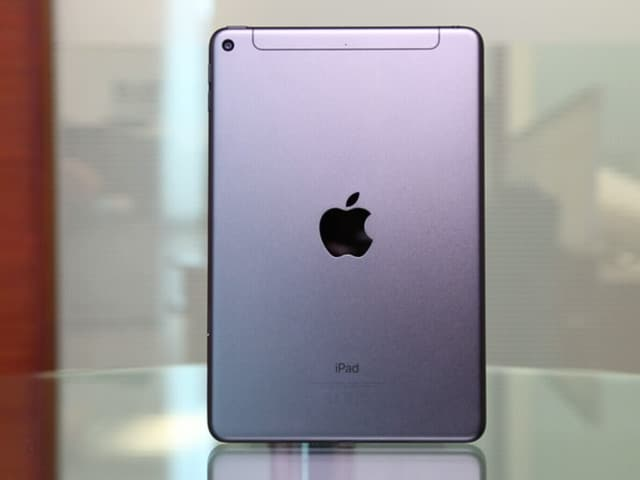apple: (300, 178, 391, 285)
